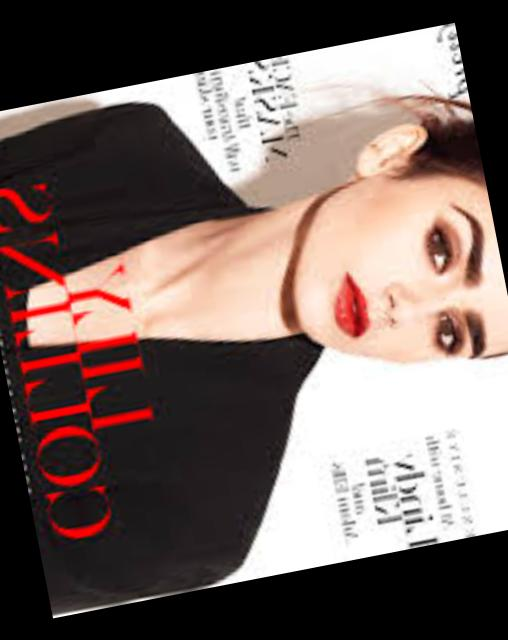cardboard paper: (0, 22, 508, 618)
